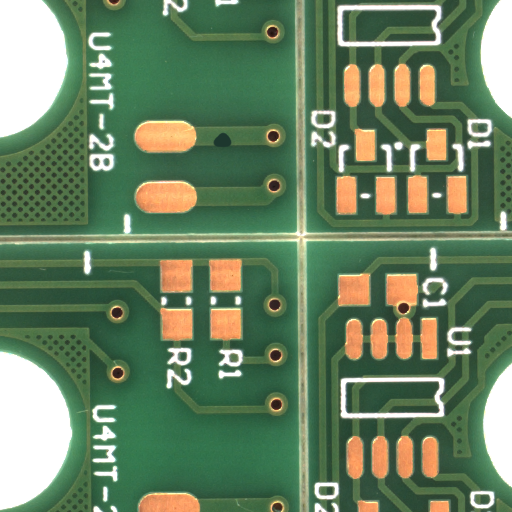Mouse_bite: (223, 140, 245, 154)
